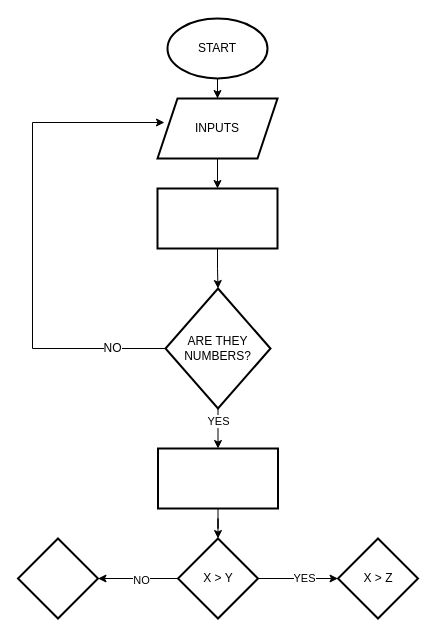
Image size: 436x636. Some labels were removed from this diagram. The shapes that lost their labels are listed below. From the top down, each one's box as (x1, y1, x2, y2) in pixels, then its label:
(156, 187, 278, 249): STORE INPUTS IN VARIABLES X,Y, Z
(156, 447, 278, 509): COMPARE INPUTS
(16, 537, 98, 619): Y > Z
